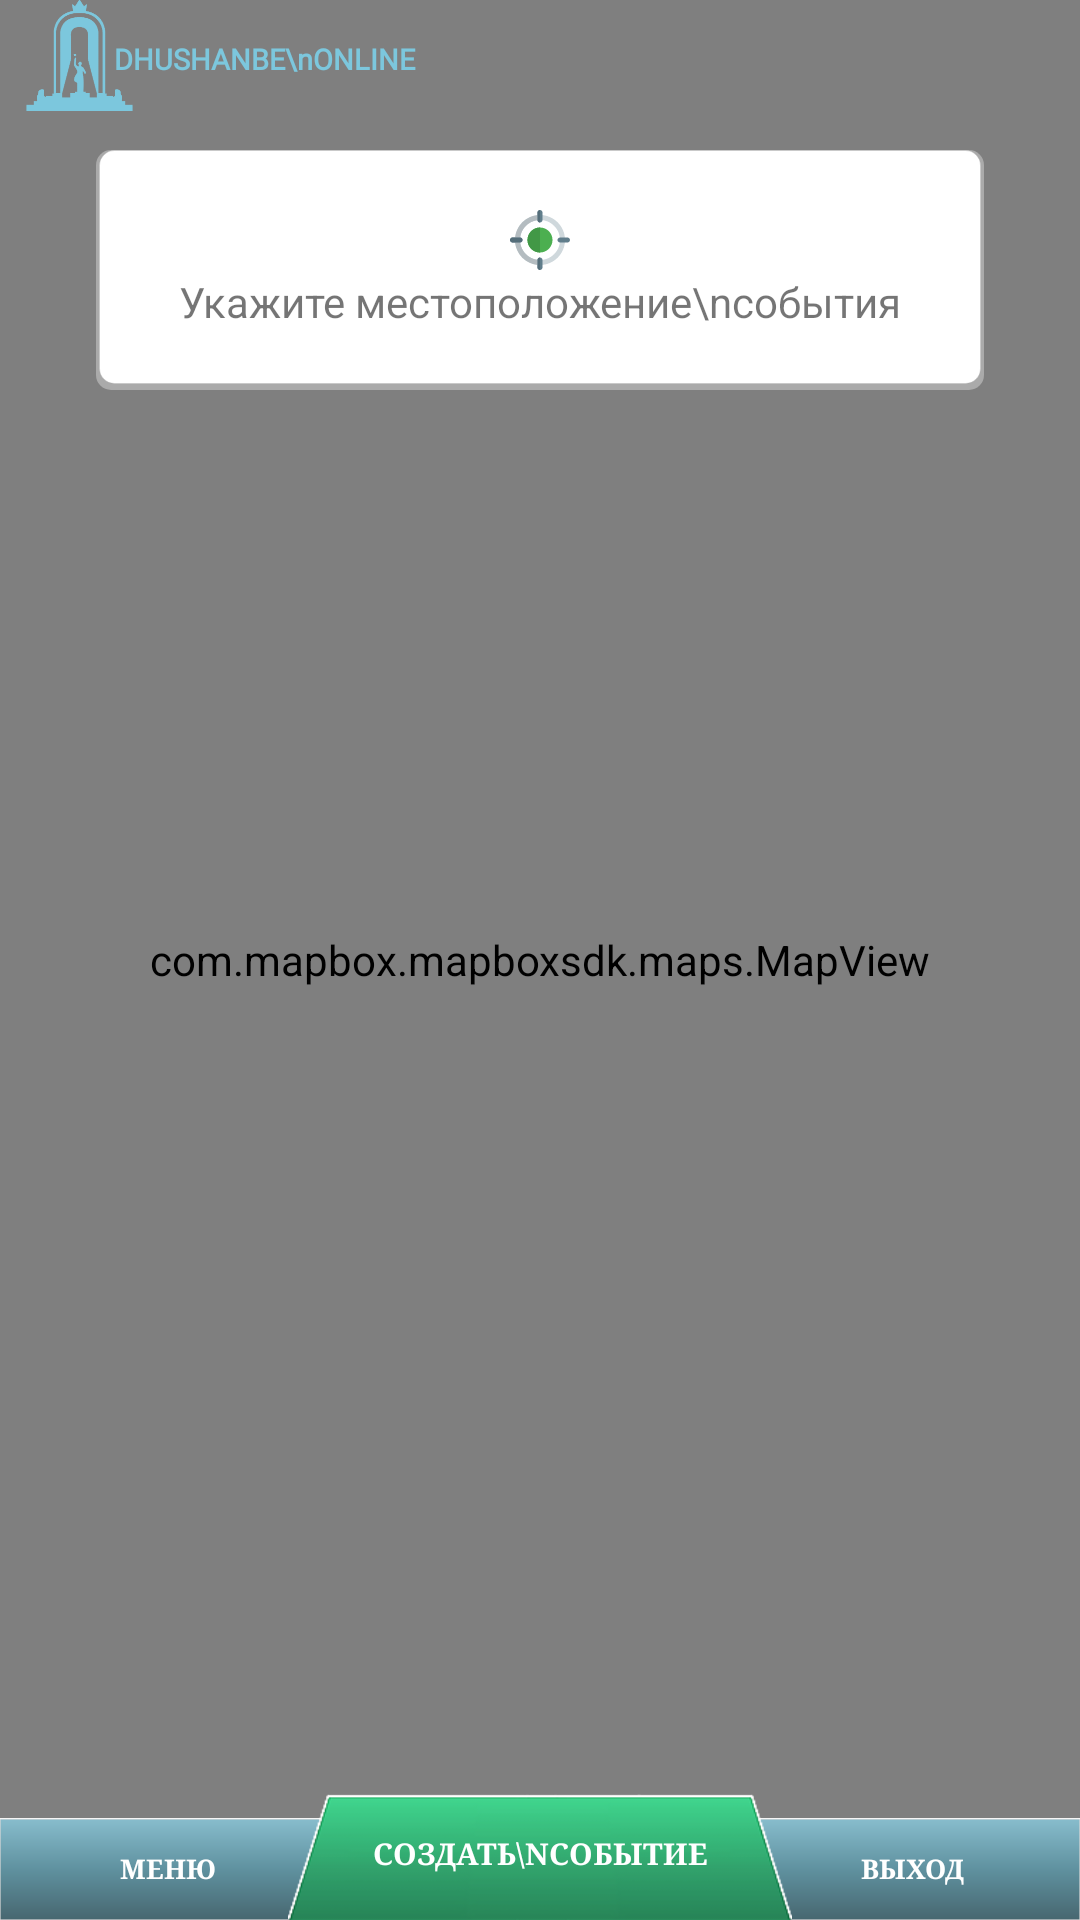

Where icons sit on this 1080px x 1920px app screen, as (x1, y1, x2, y2):
target marker: (510, 210, 570, 270)
